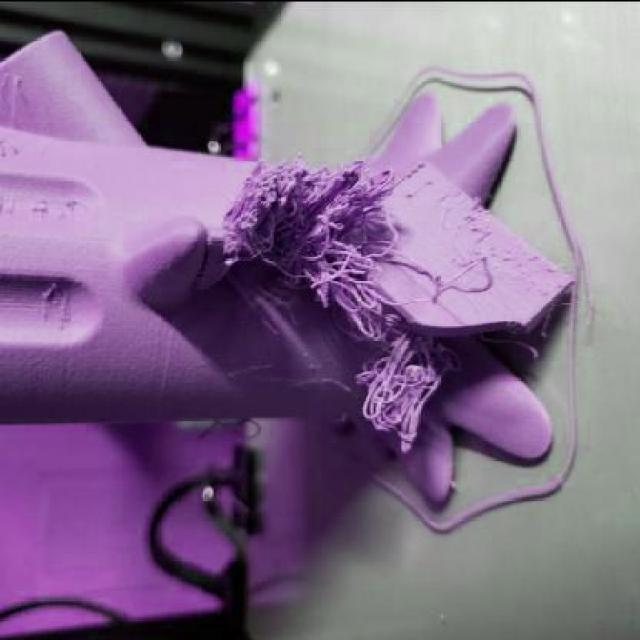spaghetti: (220, 157, 493, 338), (349, 338, 465, 456), (477, 304, 556, 361)
